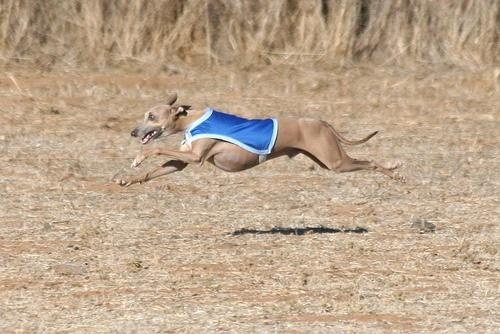dog: (116, 92, 406, 194)
